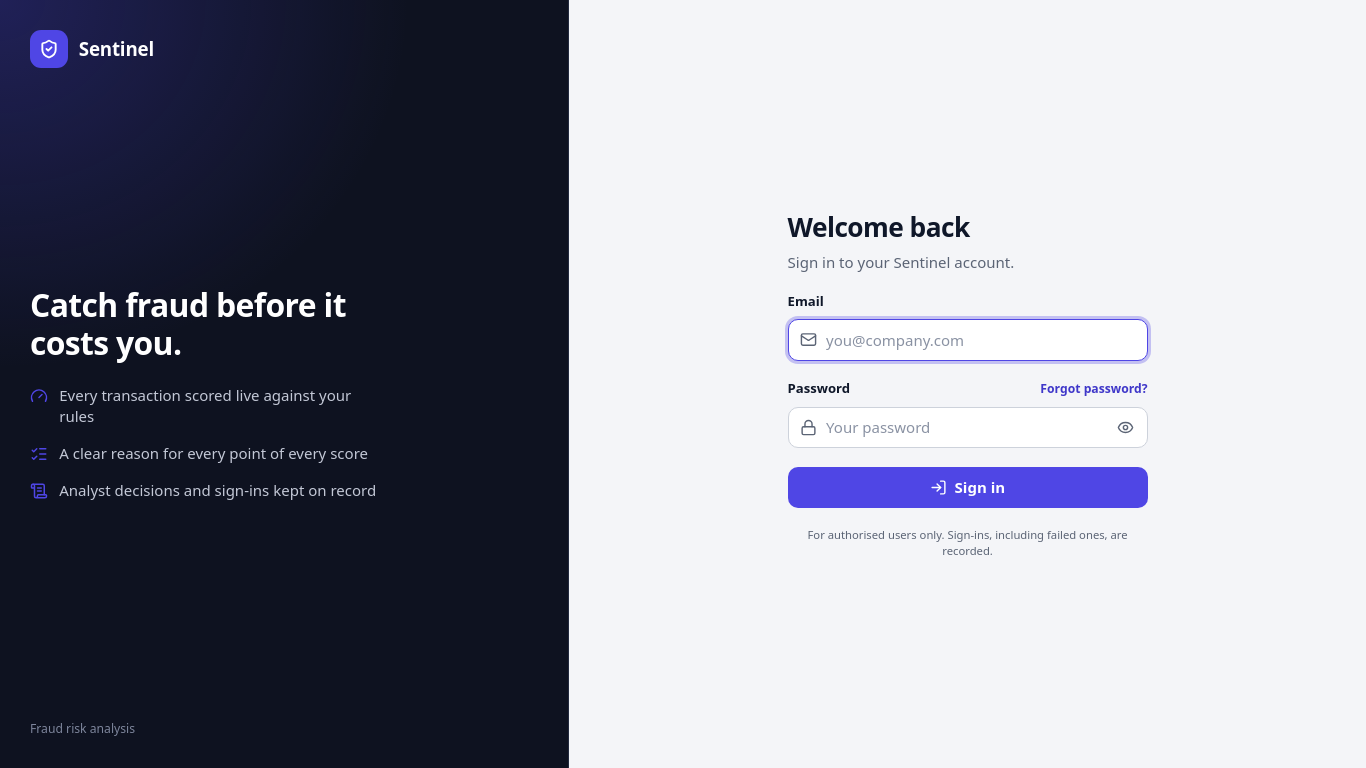
Test: sign-in (API mode) › can show the password, and explains how to get a forgotten one reset
Step 1. Type "secret" into the password field labelled "Password" → x=968, y=427, box [788,406,1148,448]
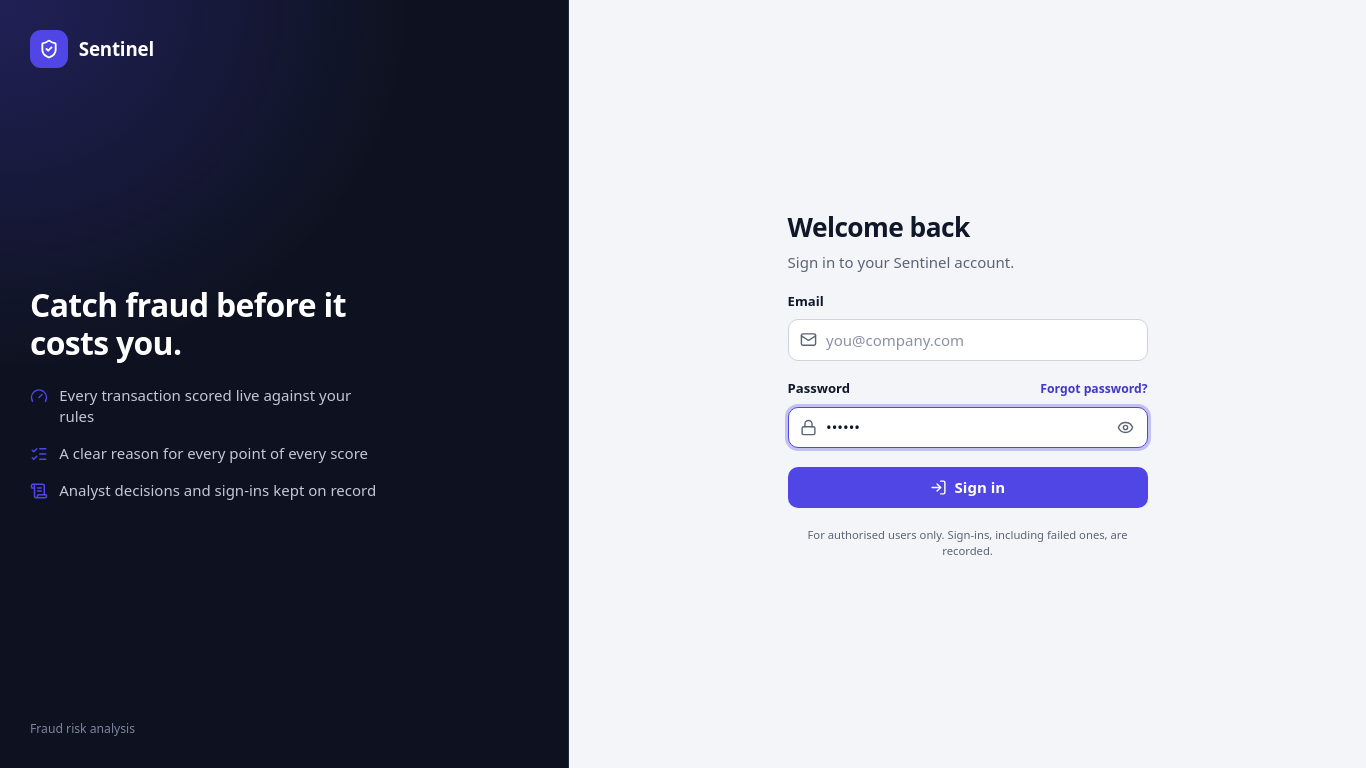
Step 2. Click the button named "Show password" → x=1126, y=427, box [1109,410,1142,444]
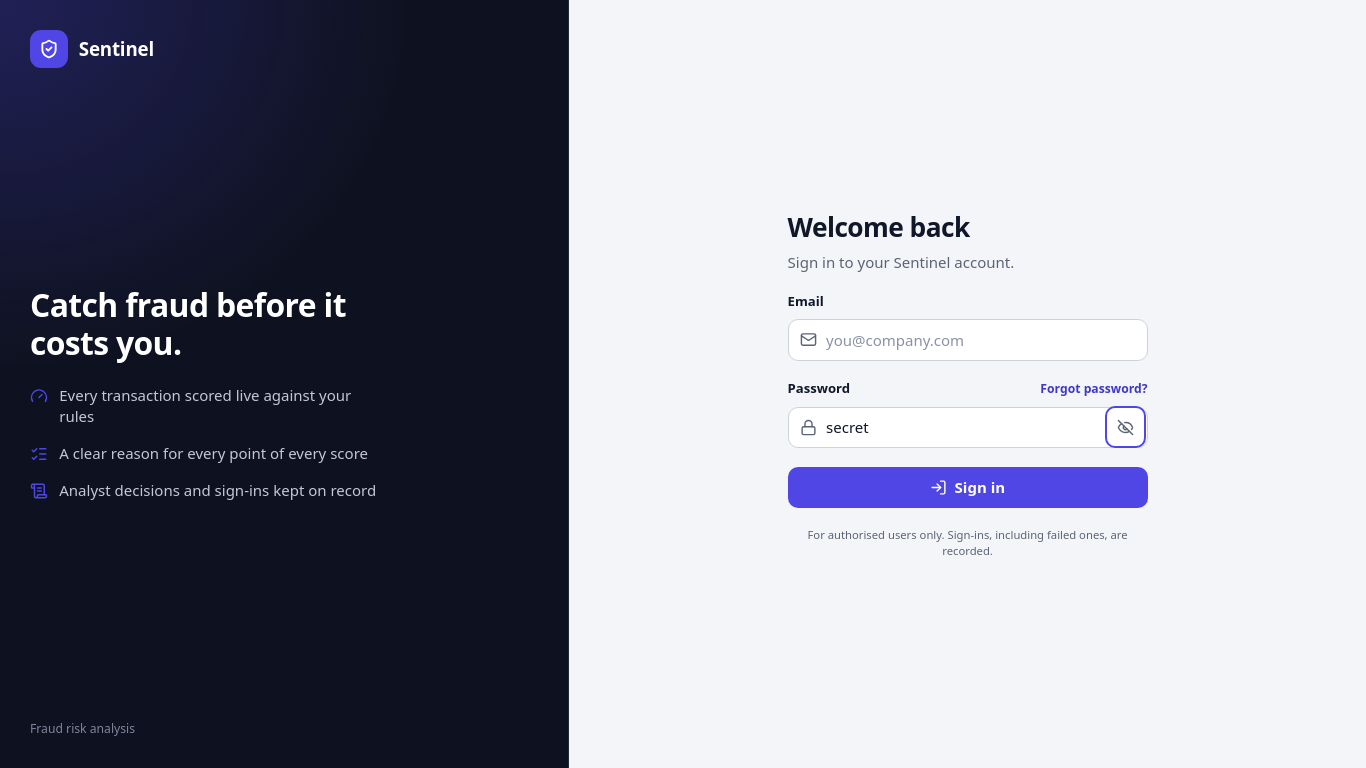
Check: the text "Ask your Sentinel administrator" is not shown
Check: the field labelled "Password" shows its text, box [788,406,1148,448]
Step 3. Click the button "Forgot password?" → x=1094, y=389, box [1040,380,1148,399]
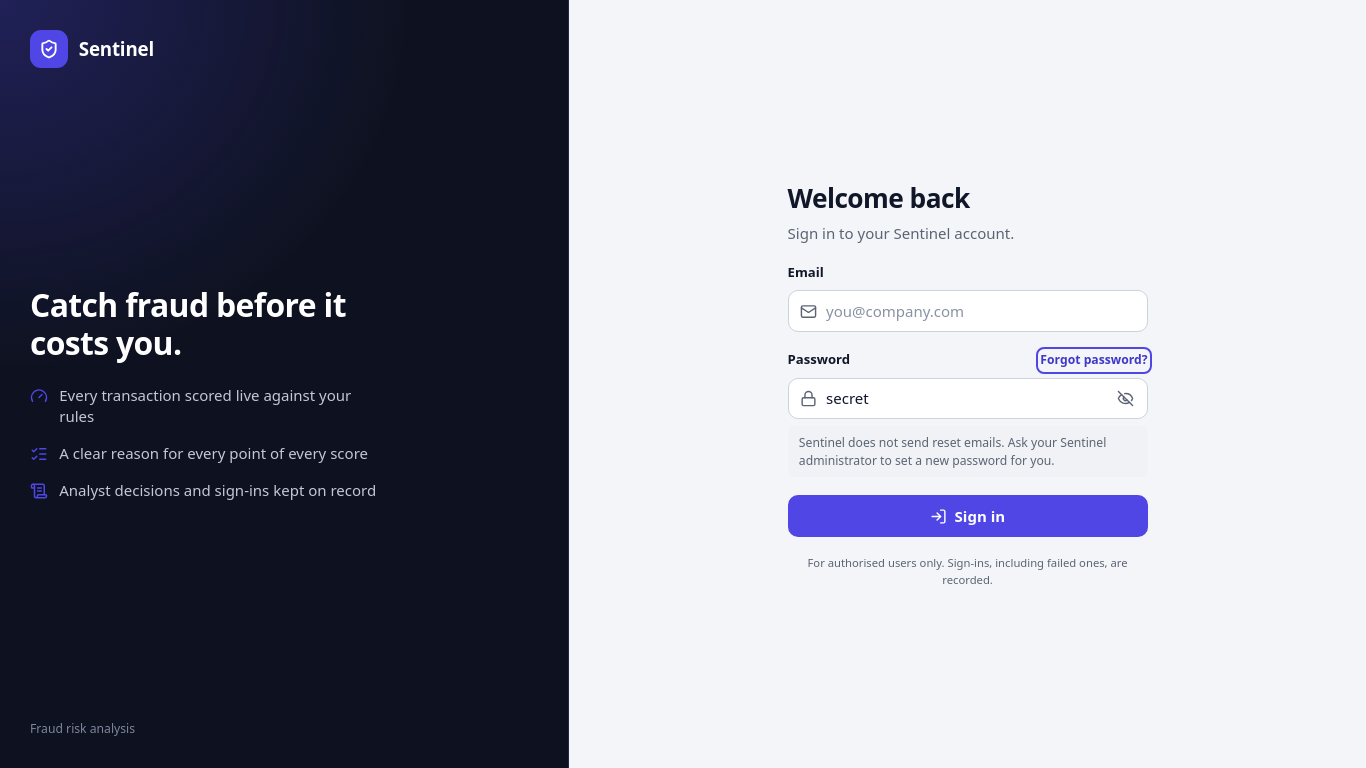
Check: the button "Forgot password?" is expanded, box [1040,351,1148,370]
Check: the text "Ask your Sentinel administrator" is shown, box [799,434,1106,468]
